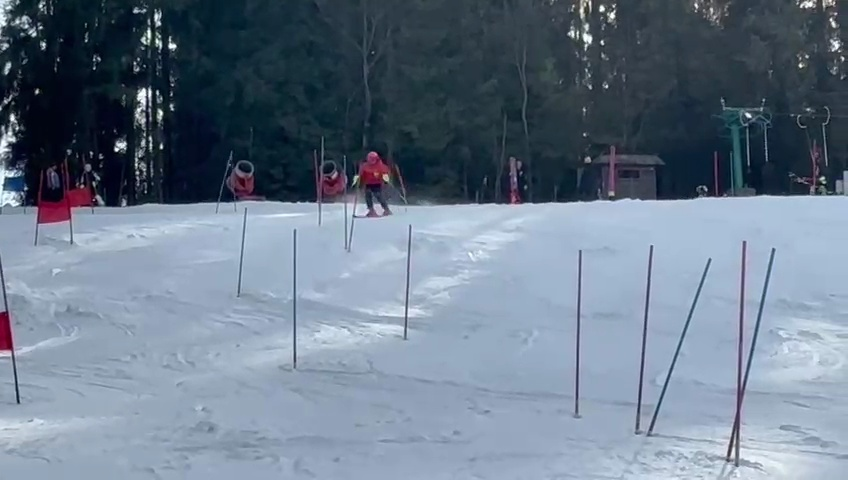gate: (723, 235, 785, 471), (645, 245, 719, 442), (0, 204, 28, 412), (634, 237, 656, 438), (568, 243, 588, 422), (285, 224, 305, 372), (342, 148, 367, 259), (399, 221, 418, 341), (337, 146, 356, 260), (233, 202, 253, 301), (59, 154, 77, 243), (385, 143, 410, 207), (308, 141, 326, 228), (31, 158, 49, 245), (211, 149, 233, 215), (805, 127, 822, 200), (225, 148, 237, 215)
